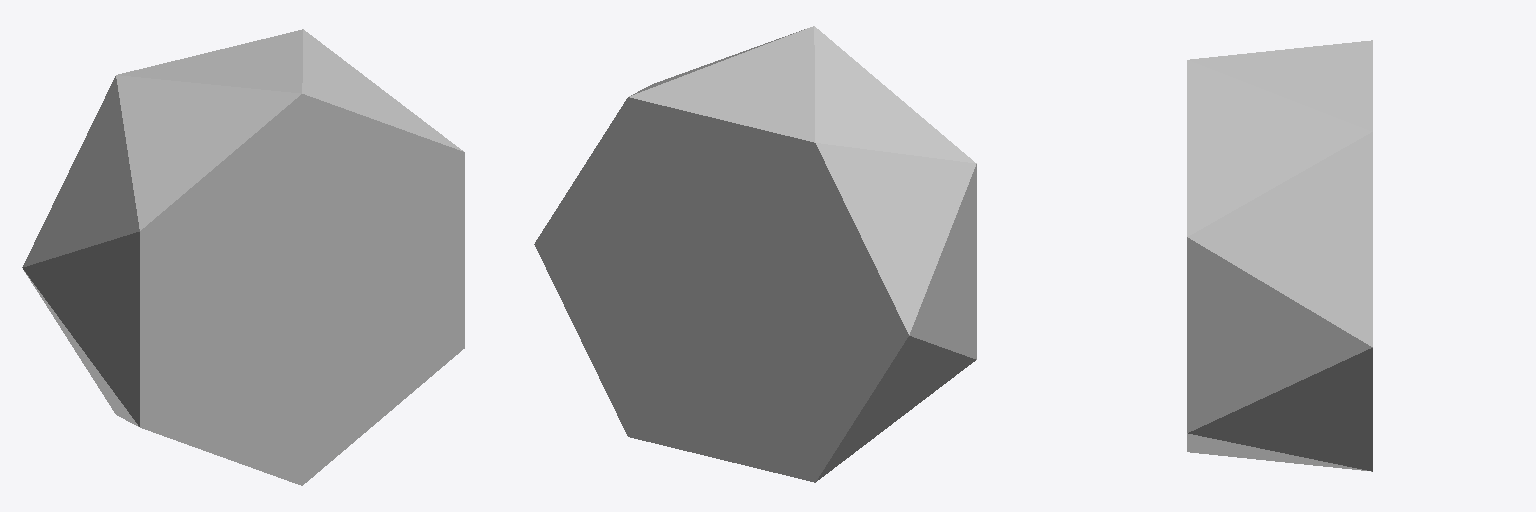
The model's file is HexagonalAntiPrism.obj.
The picture shows the model from 3 angles: view 1: azimuth 30°, elevation 25°; view 2: azimuth 150°, elevation 25°; view 3: azimuth 270°, elevation 25°; orthographic projection.
Visible parts, largest first — view 1: HexagonalAntiPrism; view 2: HexagonalAntiPrism; view 3: HexagonalAntiPrism.
Part boxes in pixels (bbox=[...]): HexagonalAntiPrism: bbox=[22, 29, 464, 485]; HexagonalAntiPrism: bbox=[534, 26, 976, 482]; HexagonalAntiPrism: bbox=[1187, 40, 1372, 471].
Bounding box in the file's own units: 1.5 × 1.5 × 0.6417.